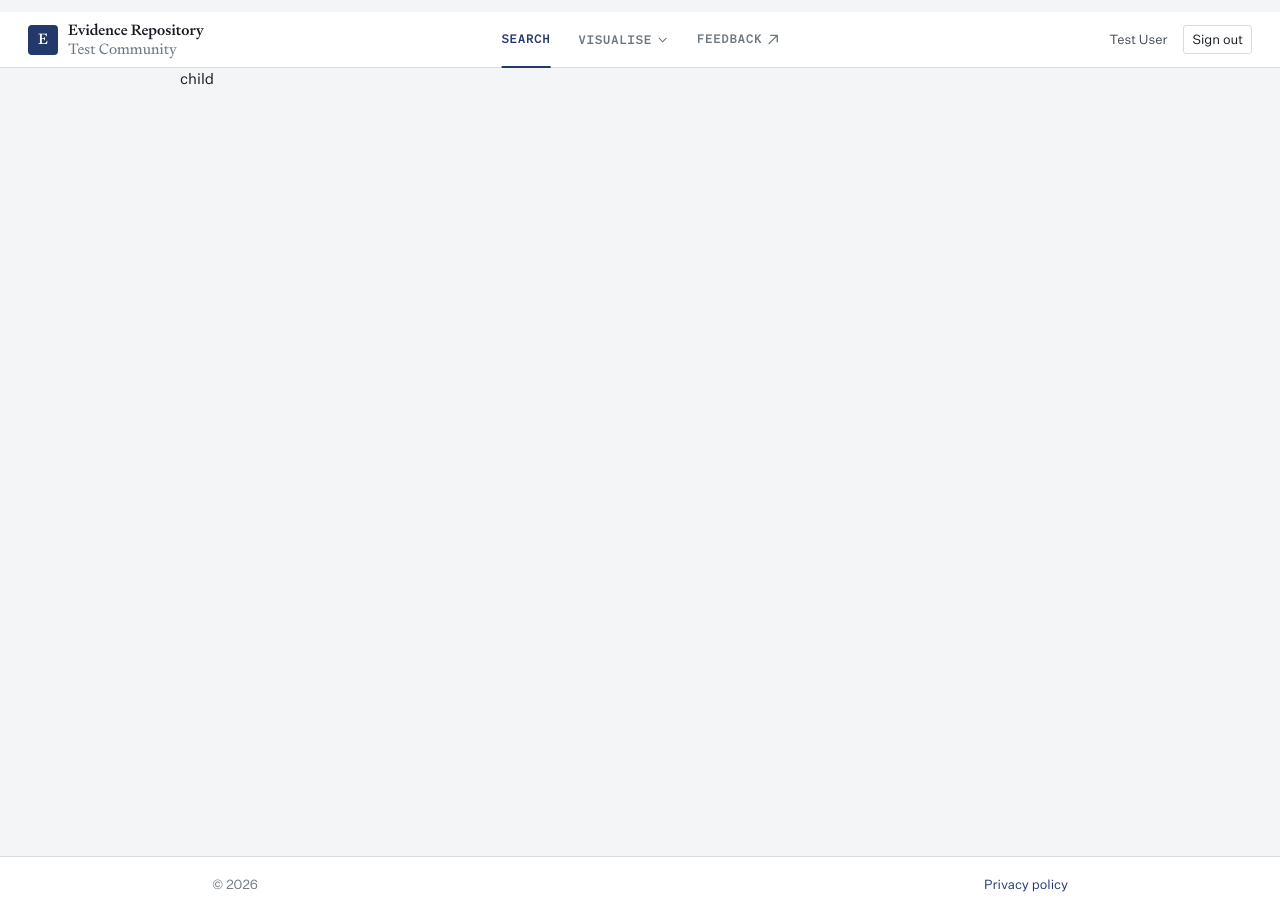
Test: AppShell Visualise dropdown › lists both views when both are enabled and reports the one chosen
The image size is (1280, 912).
Click the button "Visualise": click(624, 40) [579,12,669,68]
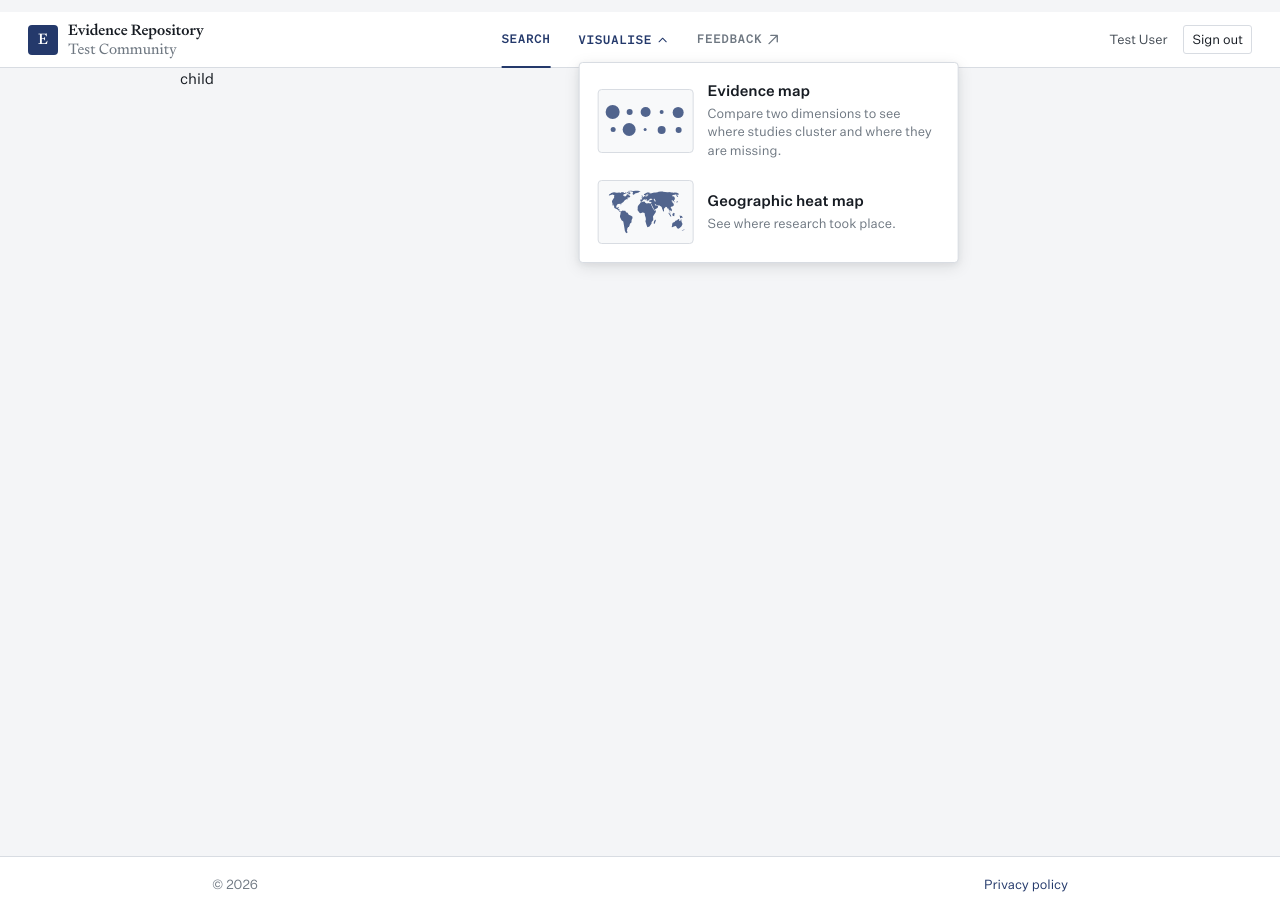
Now the button "Visualise" is expanded, box [579,12,669,68]
Click the link "Geographic heat map See where research took place.": click(747, 212) [598,180,896,244]
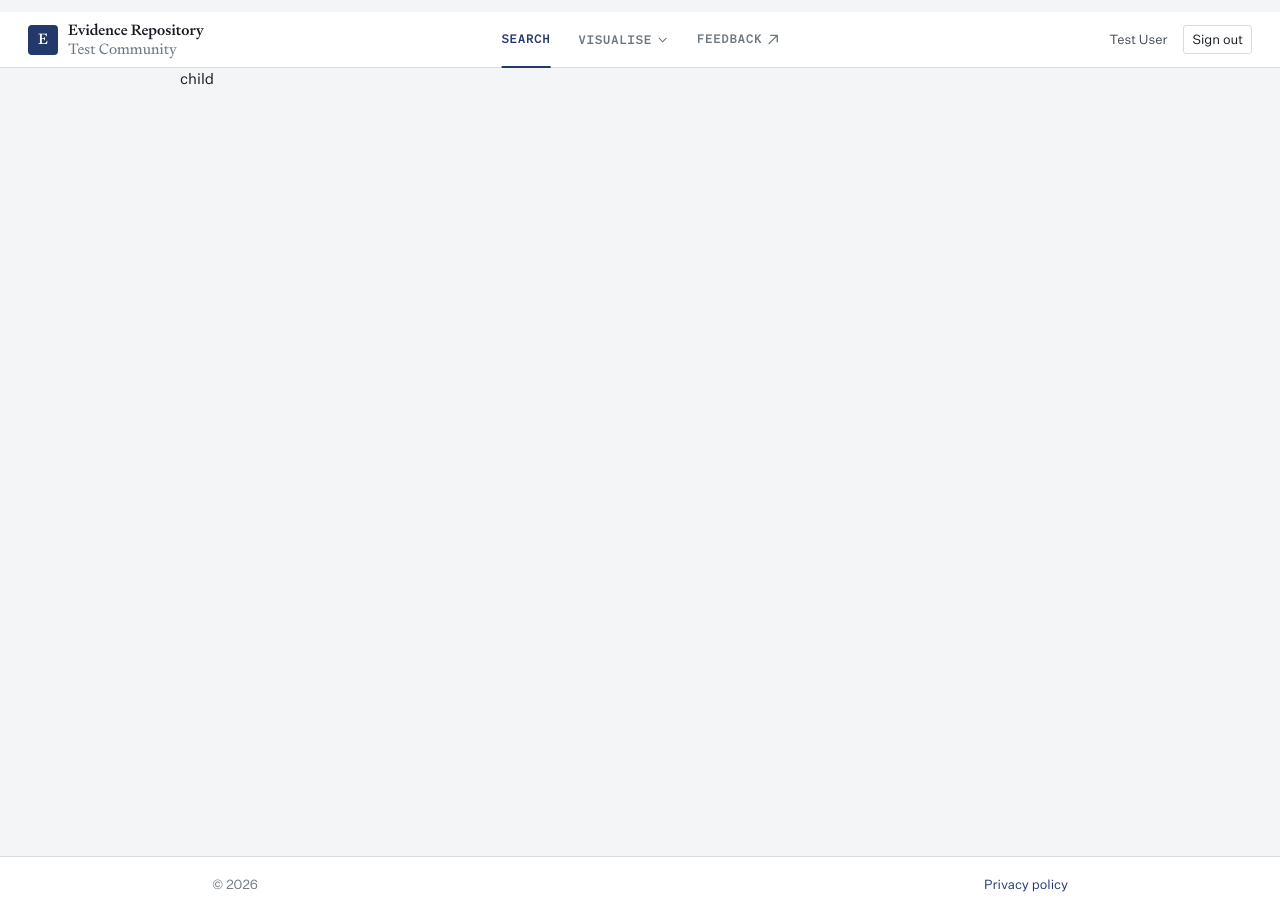
Now the button "Visualise" is collapsed, box [579,12,669,68]
